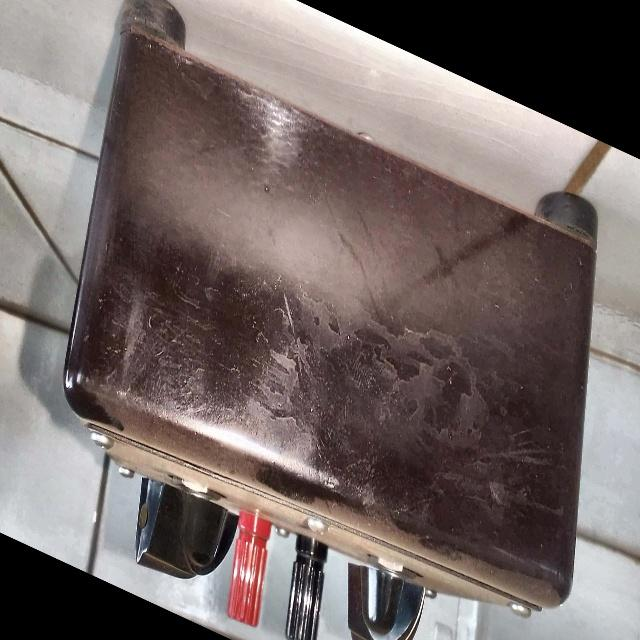Decade Capacitance Box: (17, 0, 631, 640)
